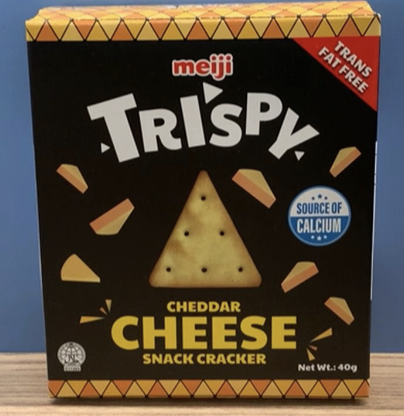crackers_1g-99g: (48, 40, 369, 379)
